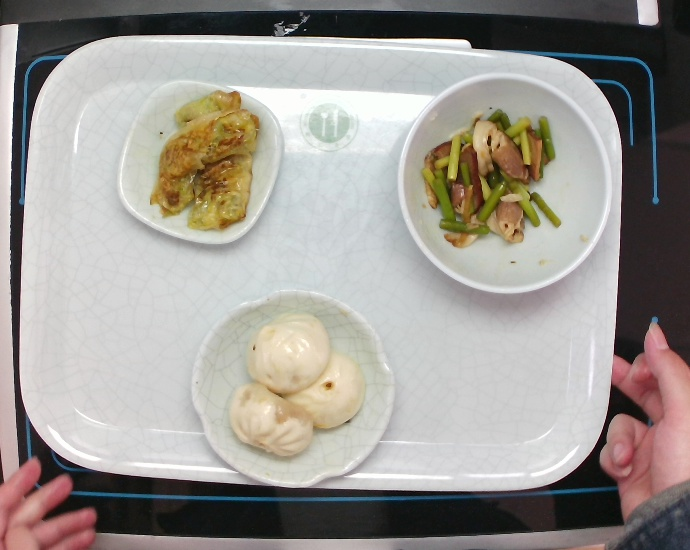JYsf-Ao_Yuan_Wan: (192, 288, 398, 494)
JYsf-Fan_Wan: (396, 64, 616, 305)
JYsf-Si_Fang_Die: (113, 78, 292, 258)
